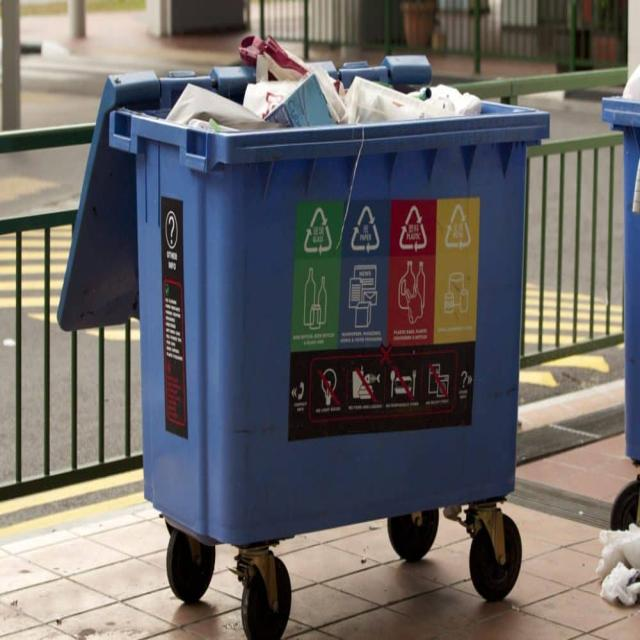bin_full: (70, 59, 532, 630)
bulk_waste: (243, 48, 472, 127), (164, 84, 270, 128)
